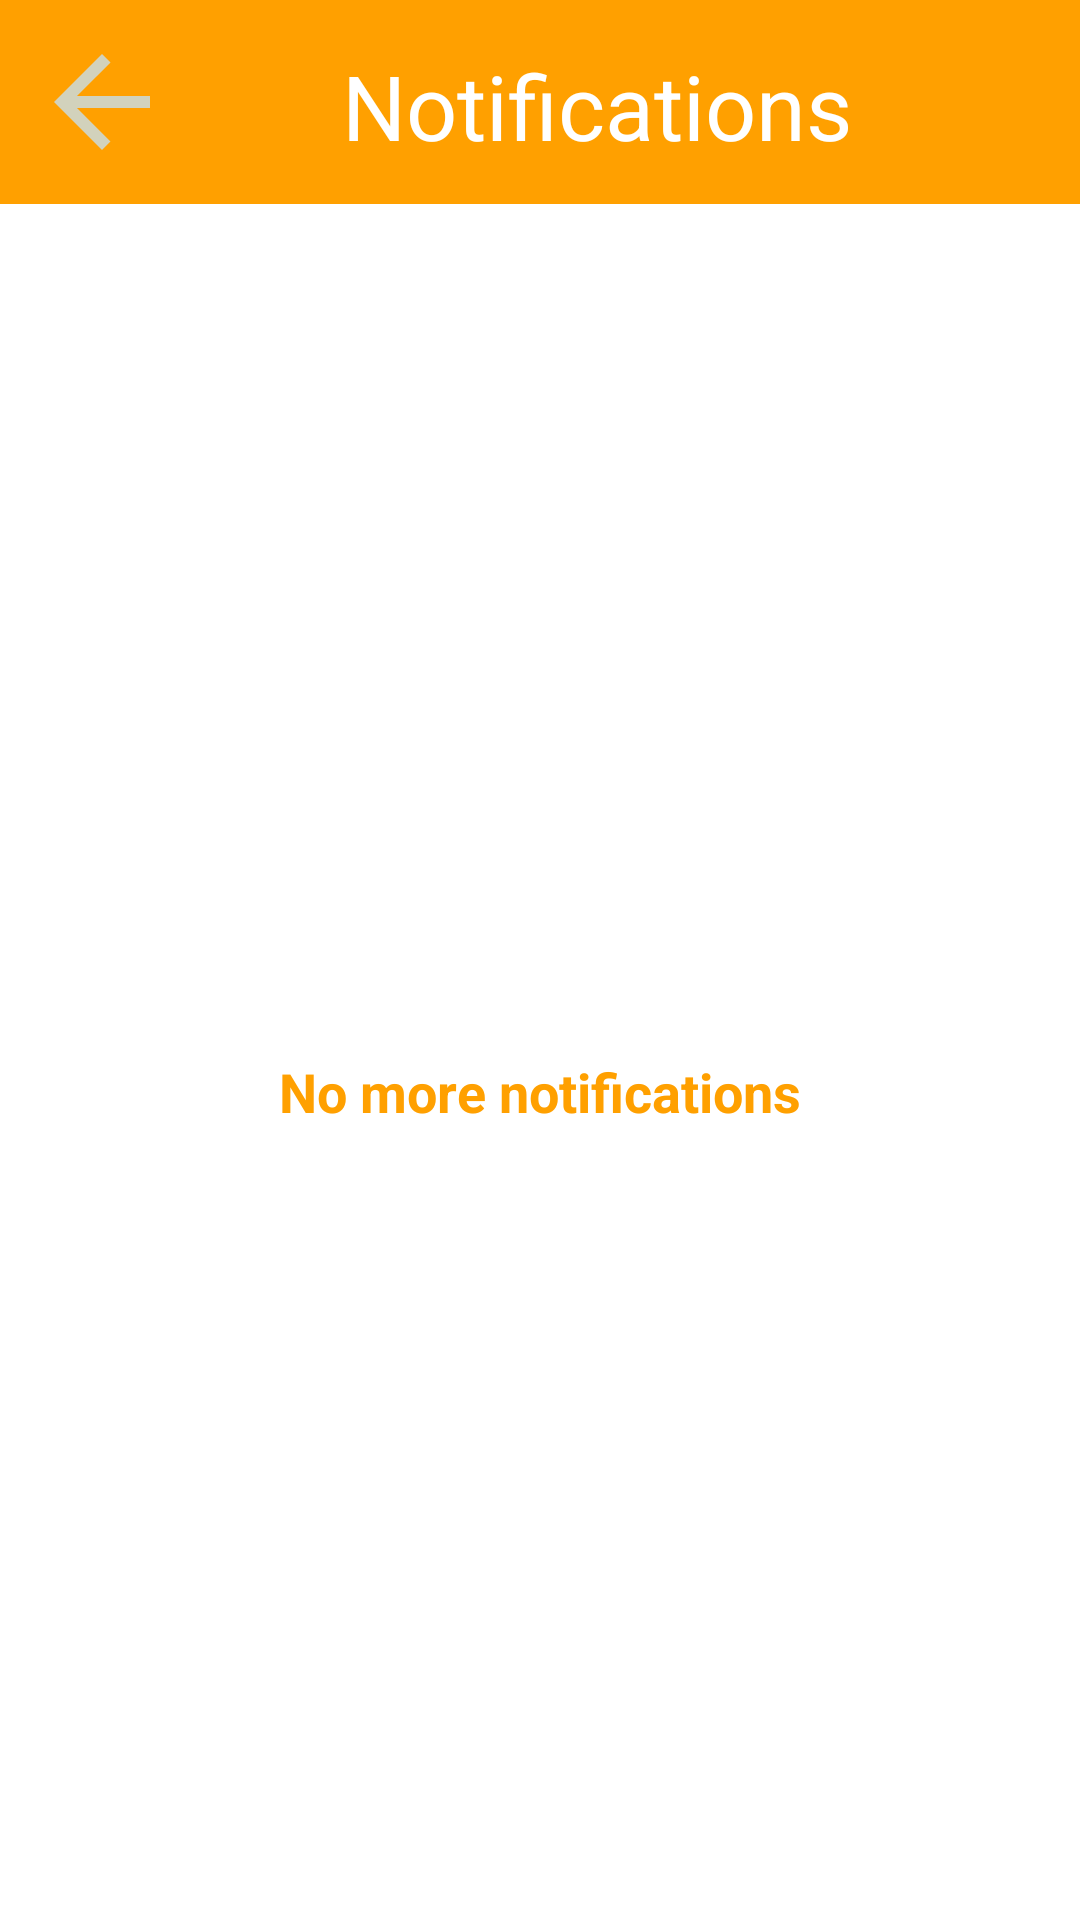

Icons on this 1080*1920 Android screen, each with its box as (x1, y1, x2, y2):
arrow back: (54, 54, 150, 150)
